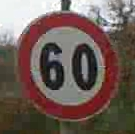limite 60: (16, 7, 120, 124)
